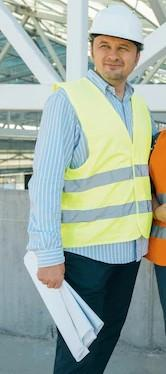hat: (66, 1, 166, 81)
vest: (33, 76, 166, 288), (139, 125, 166, 285)
